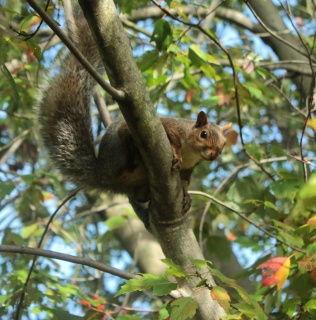Squirrel: (35, 10, 235, 210)
